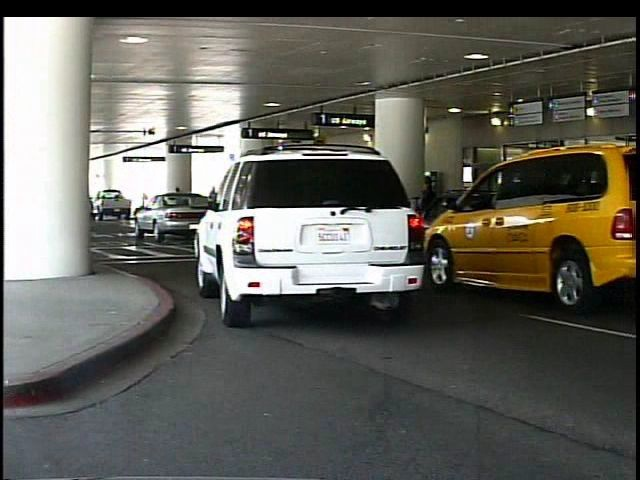person: (534, 170, 563, 261)
